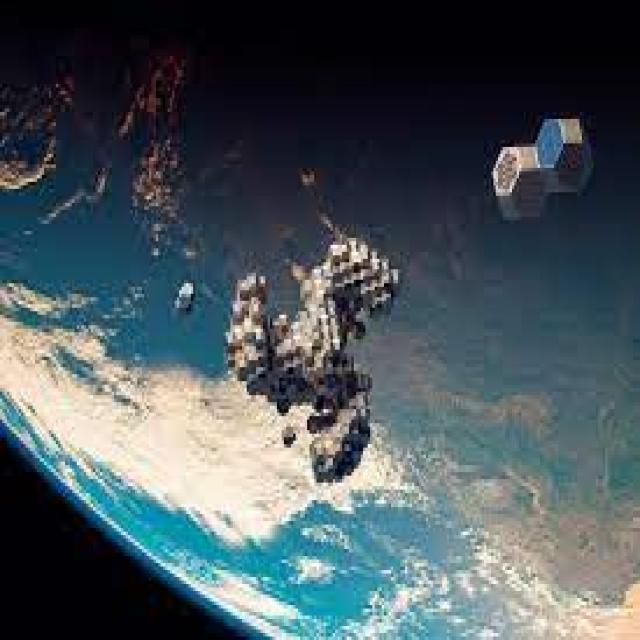large_debris: (225, 212, 412, 486), (454, 84, 620, 241), (161, 269, 209, 325)
